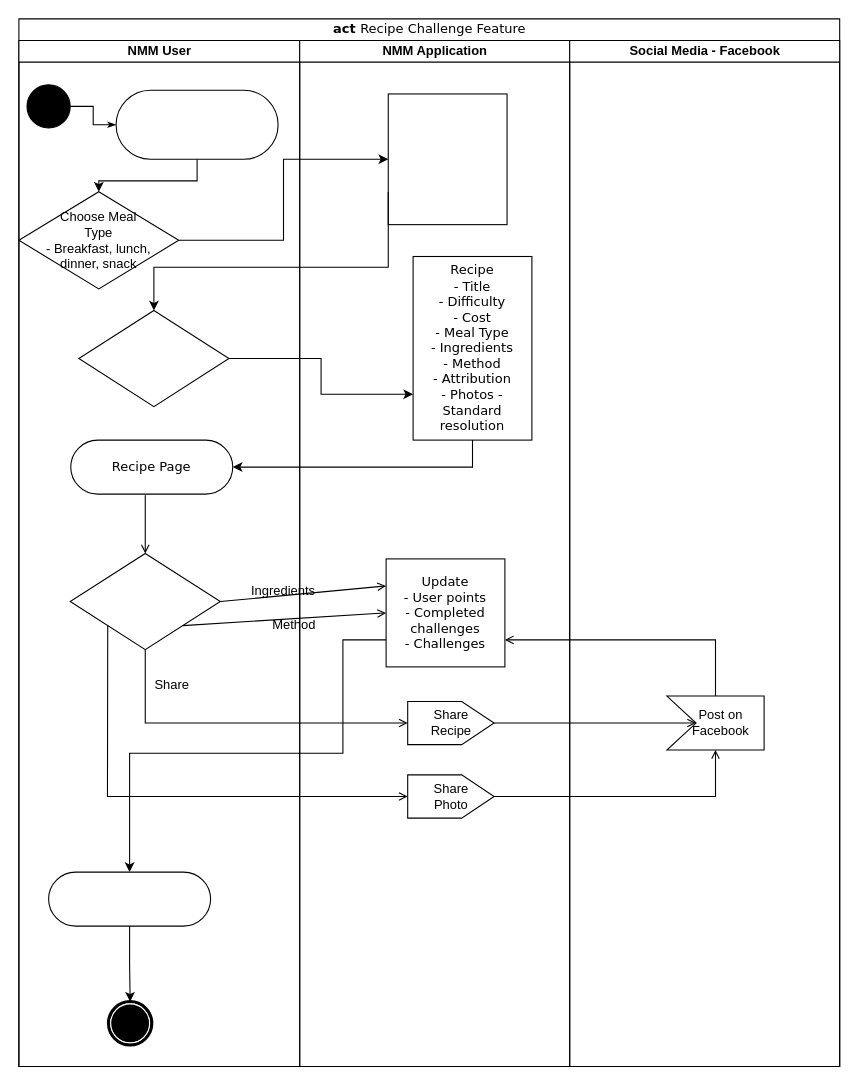
Some shapes in this 859 by 1085 pixel diagram are drawn without their labels. Here are the shapes that lost their labels. From the top down, the centre of each, then its label:
the point at 196,124: Meal Page for(Recipe t: MealType)
the point at 447,159: Recipe - Title - Difficulty - Cost - Photos - Low Resolution | Thumbnail
the point at 153,358: Choose meal - Difficulty - Cost
the point at 144,601: Complete Items
the point at 129,898: Home page
